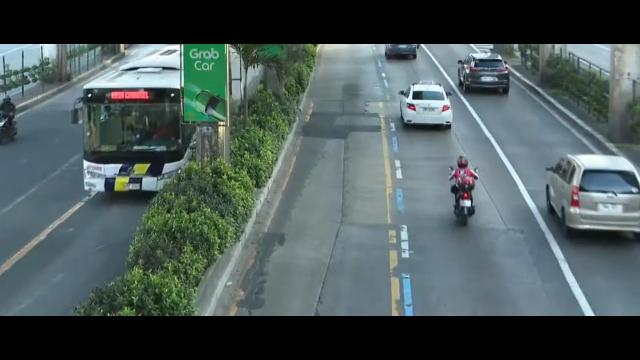bus: (76, 34, 204, 196)
car: (545, 155, 640, 239), (399, 82, 453, 130), (459, 52, 510, 94), (382, 44, 418, 60)
motorcycle: (448, 154, 478, 224), (0, 95, 17, 148)
